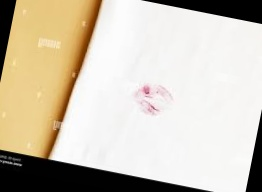lipstick: (133, 81, 176, 119)
